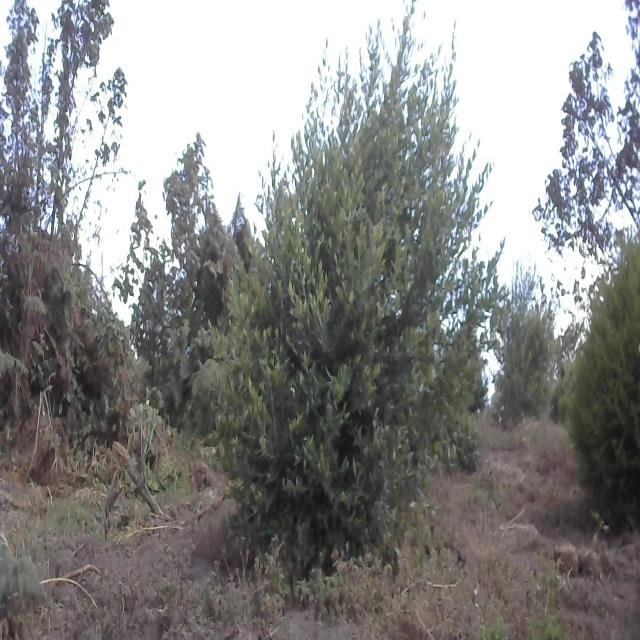Salix alba: (224, 11, 491, 610), (498, 256, 566, 429)
cedrus: (569, 231, 640, 556)
other: (0, 0, 123, 435), (138, 138, 233, 420), (538, 0, 640, 254)
